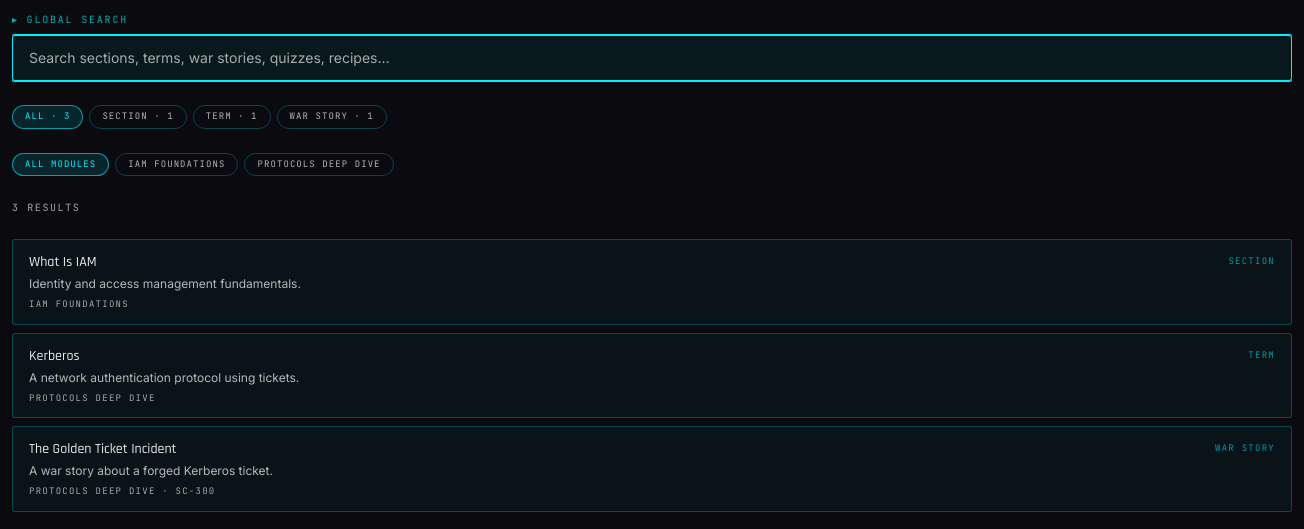
Test: SearchResults › restricts results to a single module when a module chip is clicked
Note: "Protocols Deep Dive" is the title for module 02-protocols (from modules.json).
Click the button "Protocols Deep Dive": click(319, 164) x1=244 y1=152 x2=394 y2=176
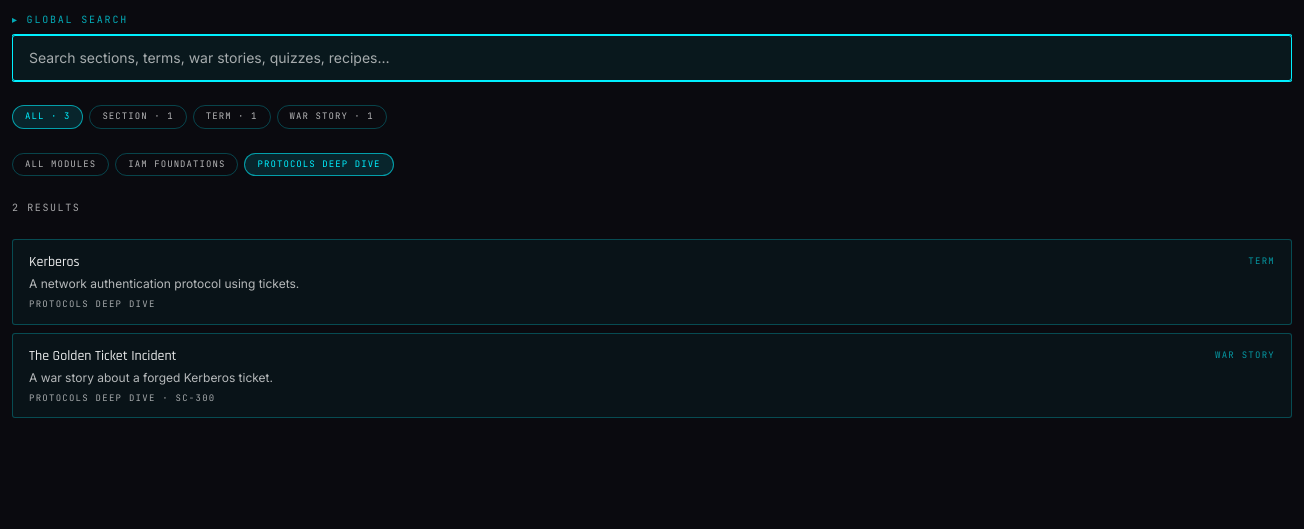
Expected: the text "Kerberos" is shown, x1=29 y1=252 x2=80 y2=272
Now the link "What Is IAM" is gone
